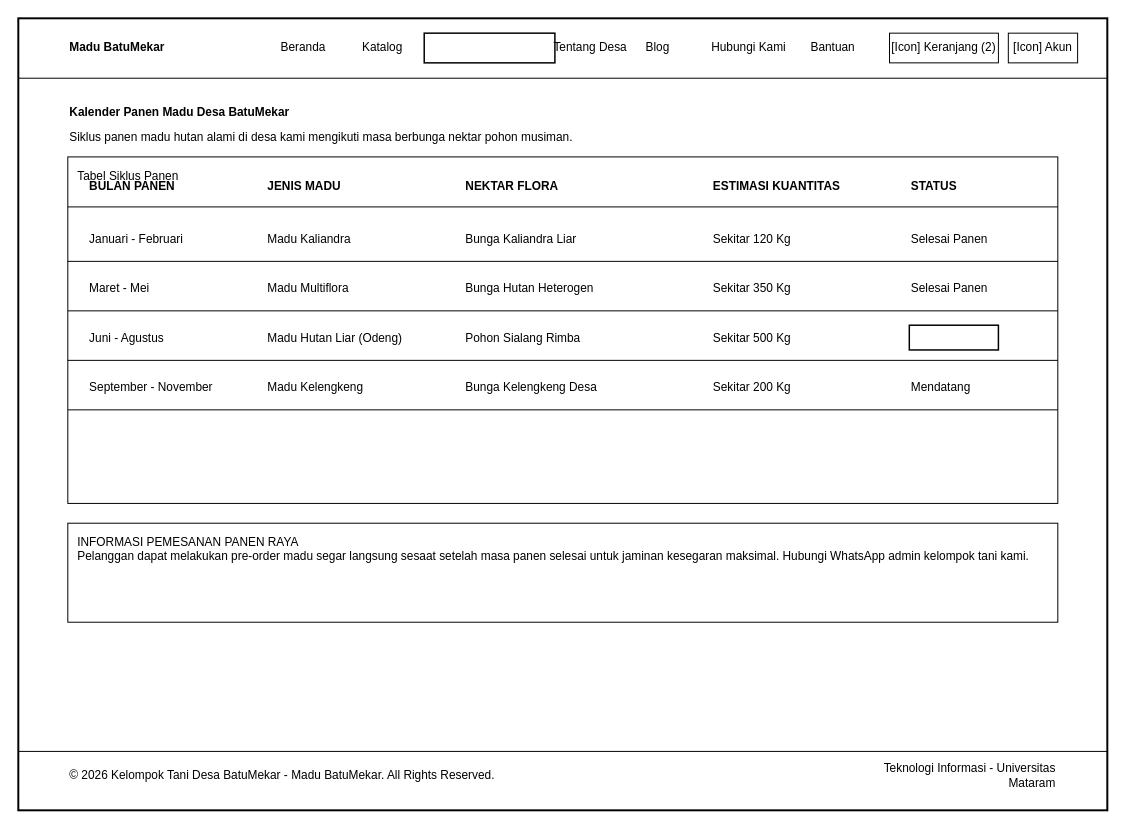
Image size: 1125x828. Some labels were removed from this diagram. The shapes that lost their labels are listed below. From the top down, each one's centre as x and y in pixels, then its label:
At (489,47): "Kalender Panen".
At (953,337): "Mulai Panen".
